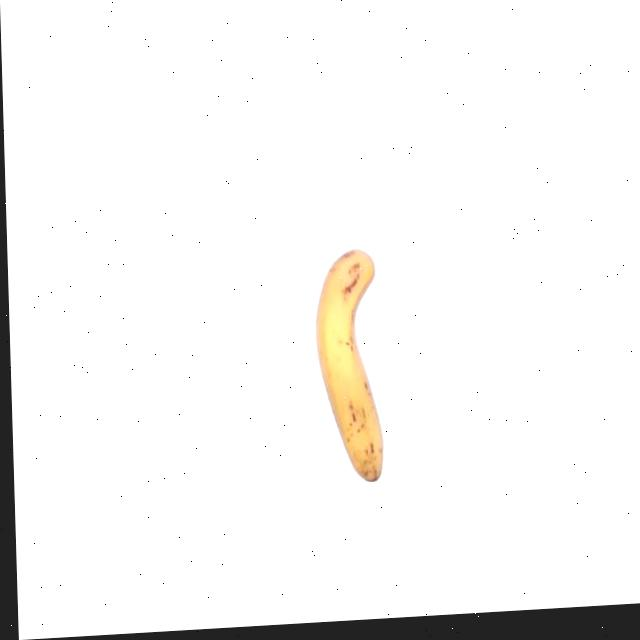banana: (309, 245, 389, 488)
